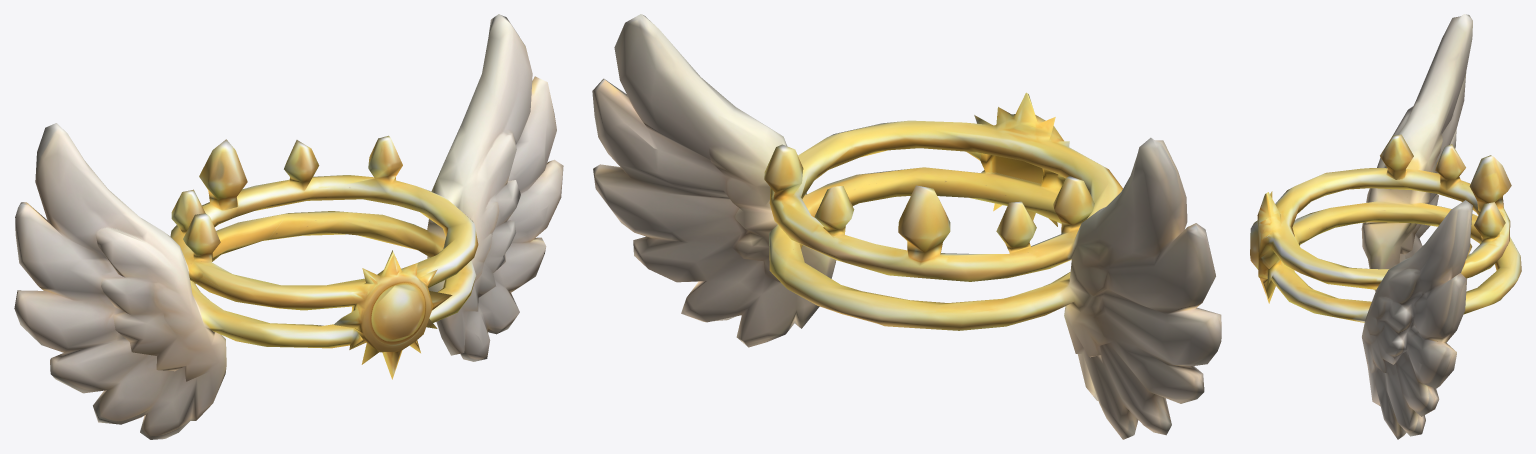
Rendered from Acc_HaloR5.glb.
3 views of the same model, side by side, from view 1: azimuth 30°, elevation 25°; view 2: azimuth 150°, elevation 25°; view 3: azimuth 270°, elevation 25° (orthographic). The views are drawn at different scales.
Visible parts, largest first — view 1: tripo_node_92c6dddc-602b-4d66-9c01-4636e92472af; view 2: tripo_node_92c6dddc-602b-4d66-9c01-4636e92472af; view 3: tripo_node_92c6dddc-602b-4d66-9c01-4636e92472af.
Boxes of the visible parts, x1=… form: tripo_node_92c6dddc-602b-4d66-9c01-4636e92472af: x1=14, y1=14, x2=563, y2=439; tripo_node_92c6dddc-602b-4d66-9c01-4636e92472af: x1=592, y1=14, x2=1221, y2=439; tripo_node_92c6dddc-602b-4d66-9c01-4636e92472af: x1=1250, y1=14, x2=1521, y2=439.
Bounding box in the file's own units: 2.97 × 1.57 × 1.48.
Materials: 1 (1 with a texture image).
